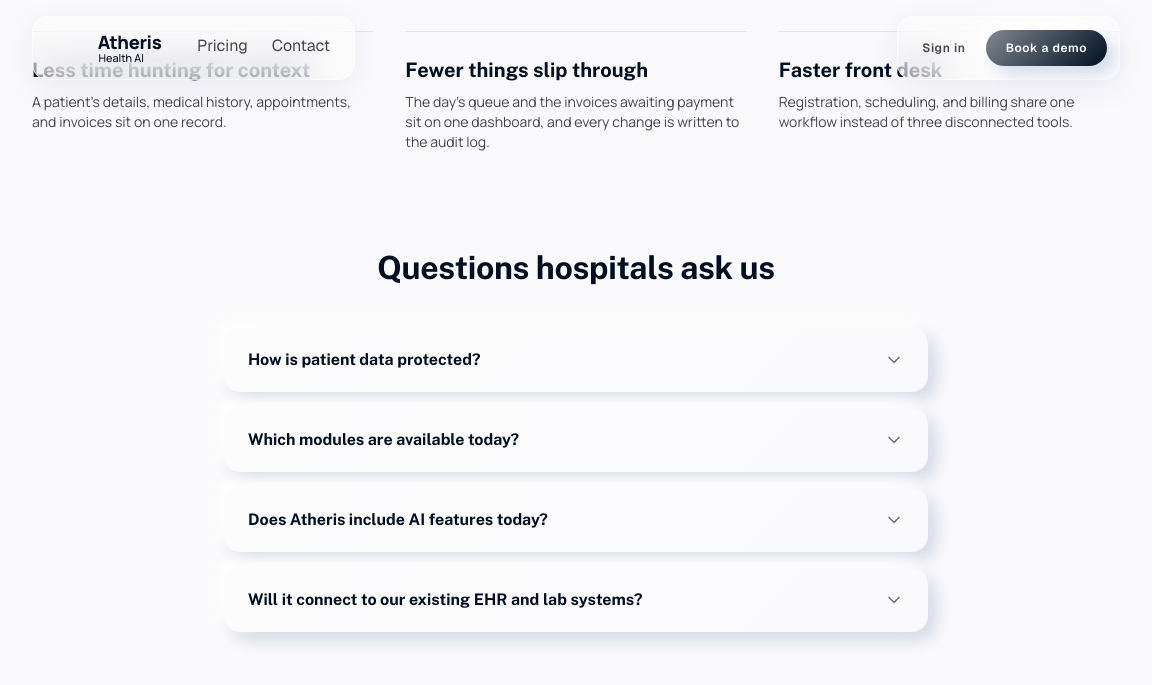
Scenario: landing page › says plainly that it is not audited or certified
The image size is (1152, 685).
(page scrolled)
Click the button "How is patient data protected?" at (364, 360), box [224,328,928,392]
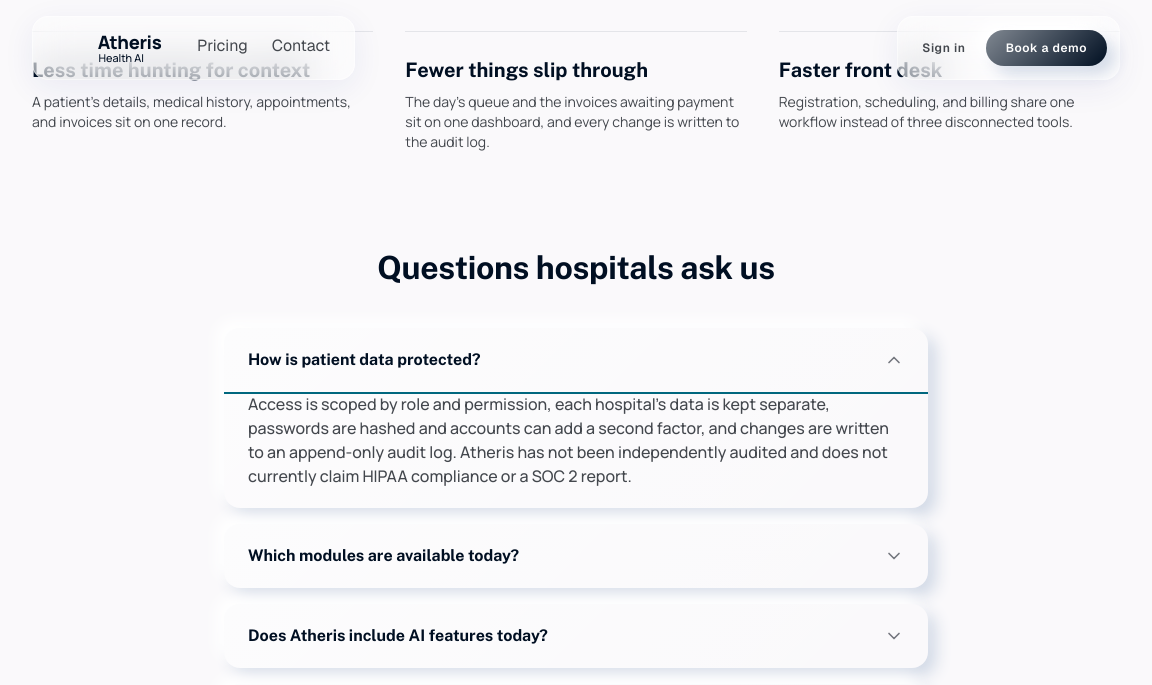
Now the text "does not currently claim HIPAA compliance or a SOC 2 report" is shown, box [248,393,889,487]
